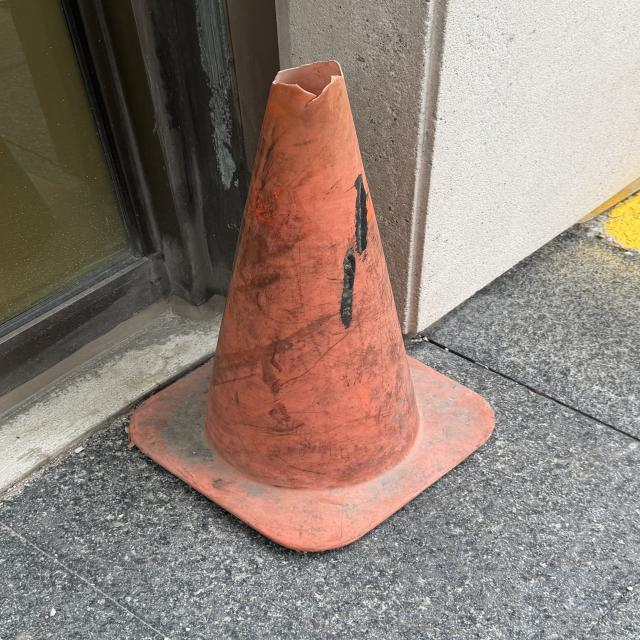Traffic Cone: (124, 59, 503, 555)
